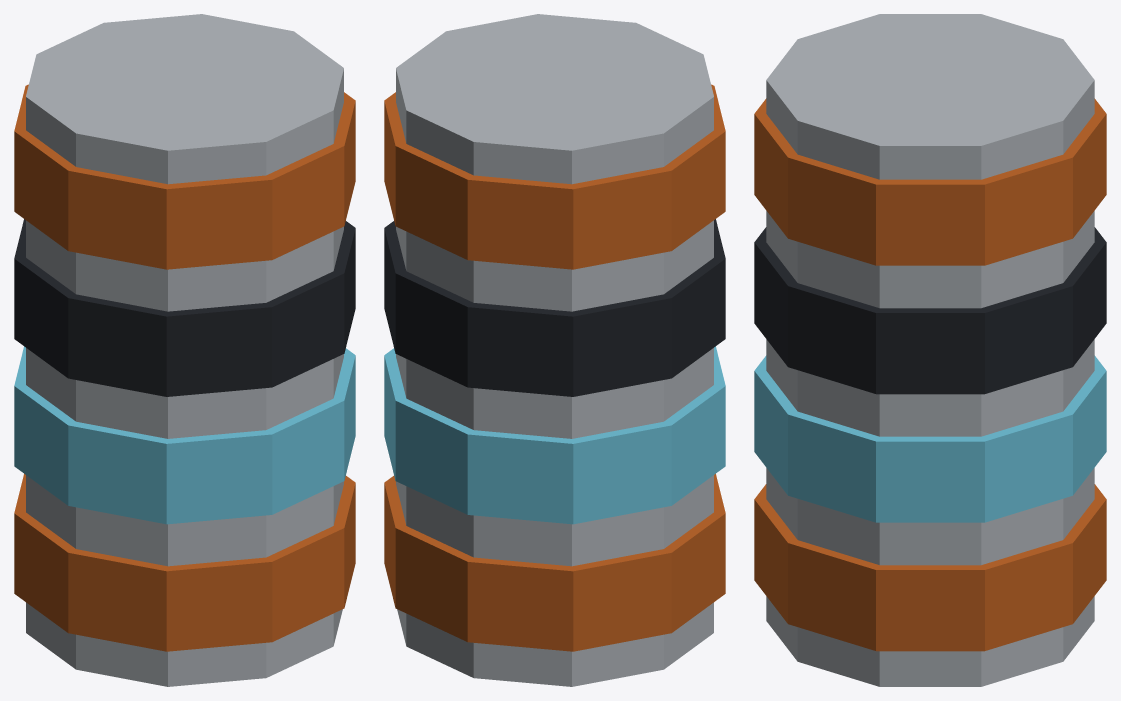
File: code-cylinder.glb
3 renders of one model, left to right at view 1: azimuth 30°, elevation 25°; view 2: azimuth 150°, elevation 25°; view 3: azimuth 270°, elevation 25°, orthographic.
Parts seen in each view (by area): view 1: m; view 2: m; view 3: m.
Part boxes in pixels (x1,y1,x2,y2): m: [14, 14, 355, 686]; m: [384, 14, 725, 686]; m: [754, 14, 1106, 686].
Bounding box in the file's own units: 0.0224 × 0.04 × 0.0236.
